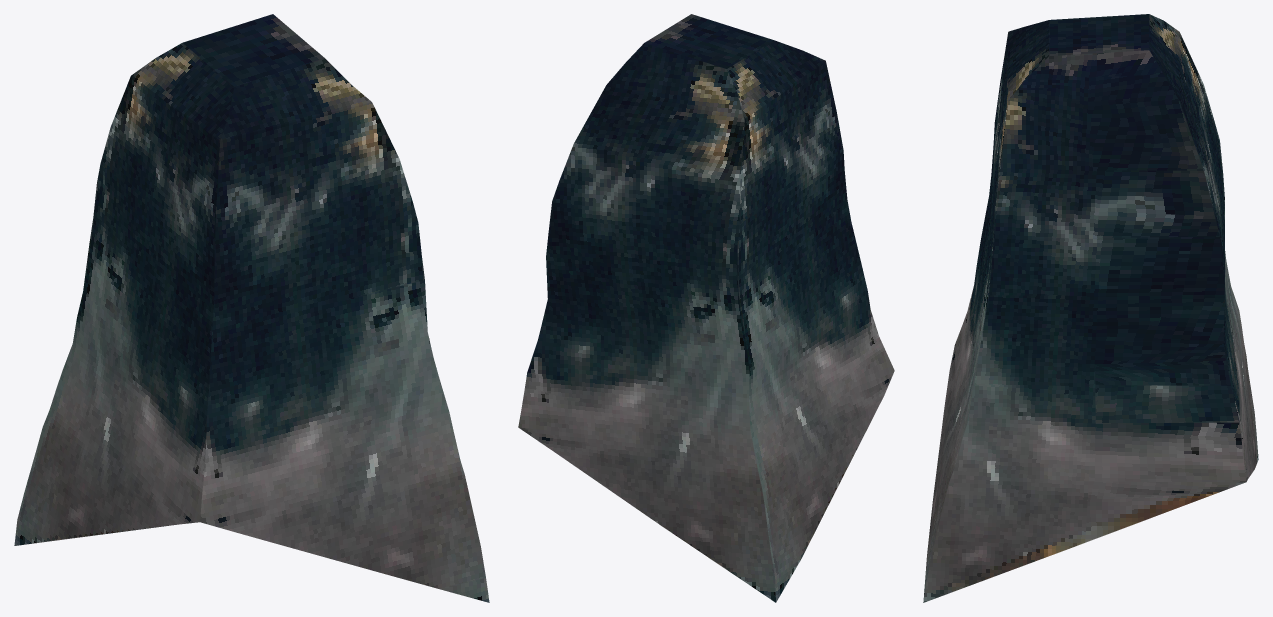
The picture shows the model from 3 angles, left to right: view 1: azimuth 30°, elevation 25°; view 2: azimuth 150°, elevation 25°; view 3: azimuth 270°, elevation 25°; orthographic projection. The views are drawn at different scales.
Parts seen in each view (by area): view 1: SPLICE_2; view 2: SPLICE_2; view 3: SPLICE_2.
Boxes of the visible parts, bbox=[...] form: SPLICE_2: bbox=[14, 14, 489, 602]; SPLICE_2: bbox=[518, 14, 894, 602]; SPLICE_2: bbox=[923, 14, 1258, 602].
Size of the model in its own units: 1.2 by 2.01 by 1.21.
Materials: 1 (1 with a texture image).
